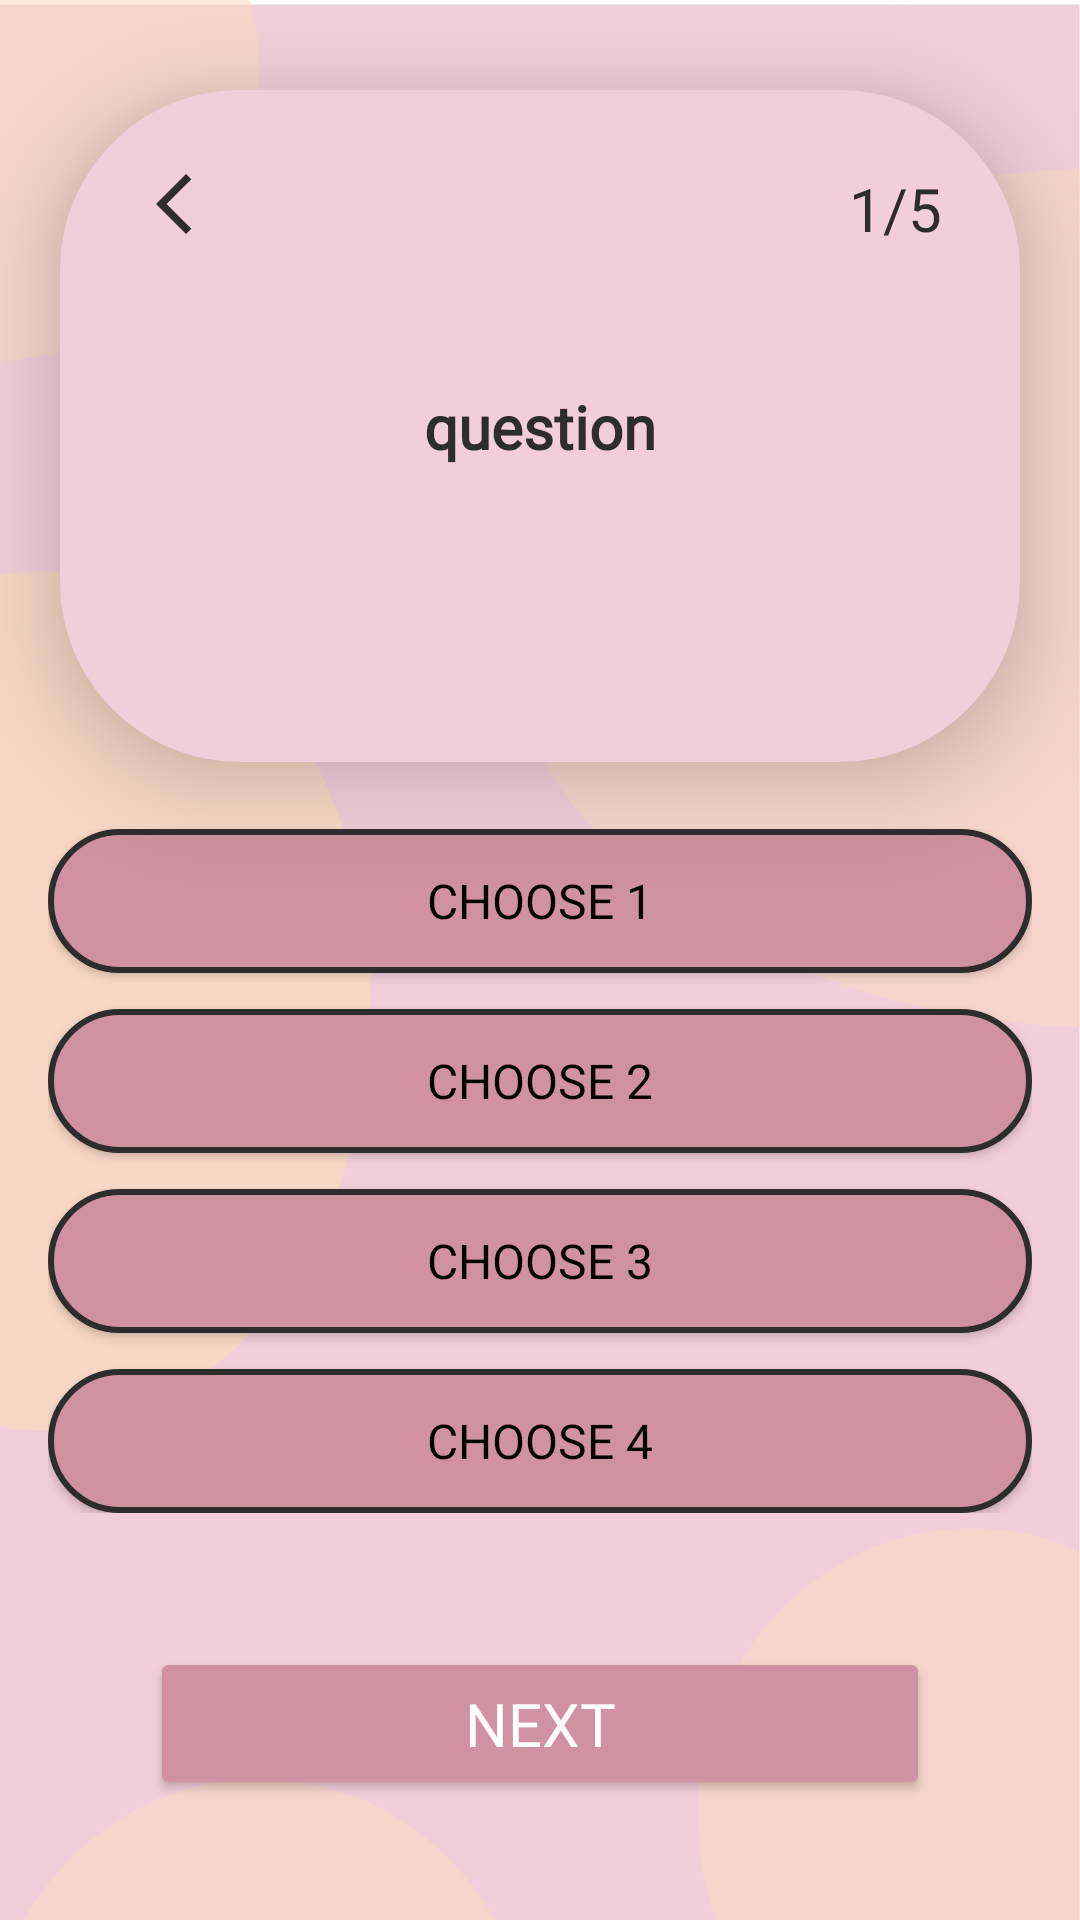

Named icons in this screenshot (1080 × 1920) and their centers, (x=x, y=y):
back: (x=173, y=204)
